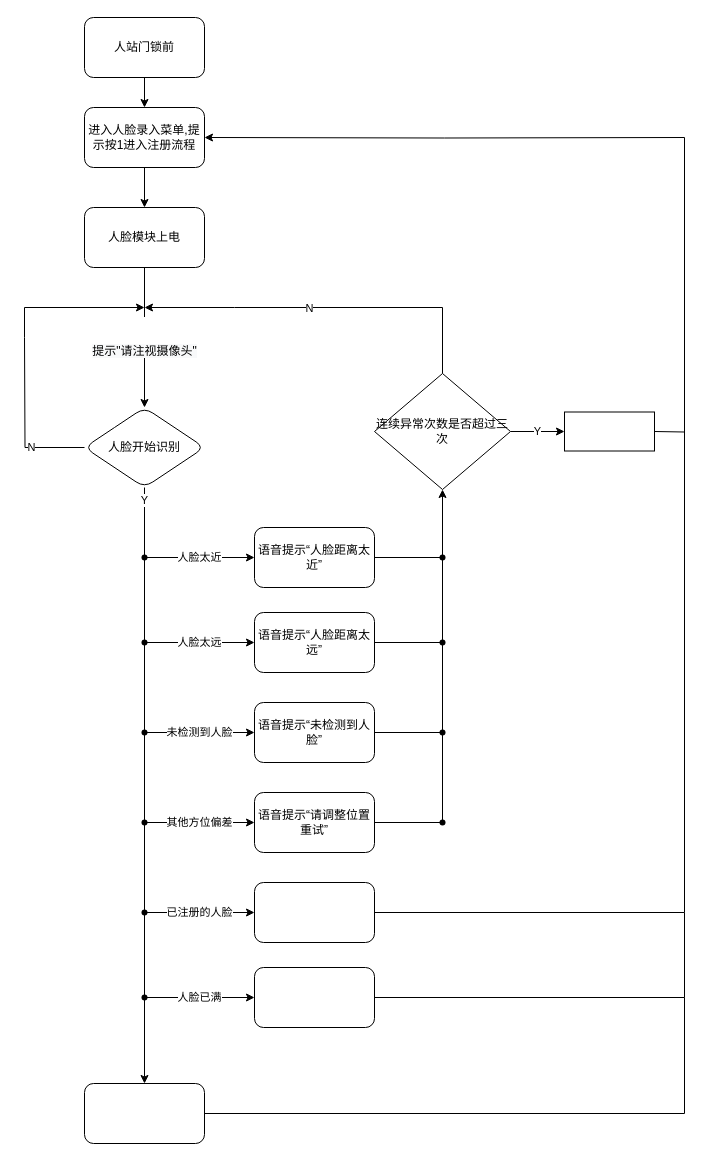
This 710x1161 diagram has some shape labels left out. Here are the shapes that lost their labels. From the top down, the centre of each, then its label:
At [609,431]: "提示“录入失败”".
At [314,912]: "语音提示“人脸已存在”".
At [314,997]: "语音提示“人脸用户已满”".
At [144,1113]: "添加成功".
